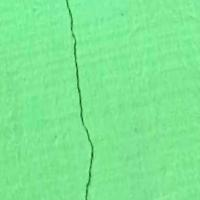crack: (52, 0, 109, 199)
